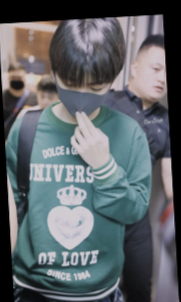with_mask: (55, 74, 111, 119), (8, 74, 26, 90)
without_mask: (138, 58, 167, 101), (37, 90, 59, 110)
